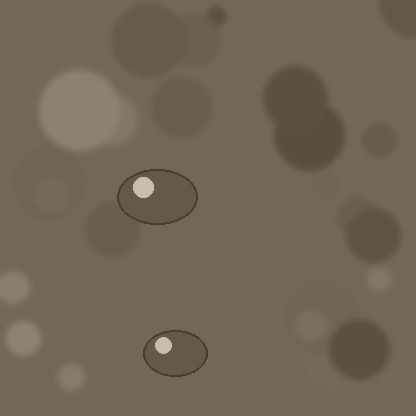gota: (117, 171, 197, 229), (143, 332, 207, 380)
